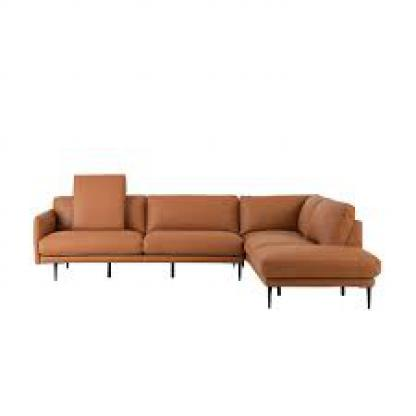sofa: (30, 174, 379, 312)
